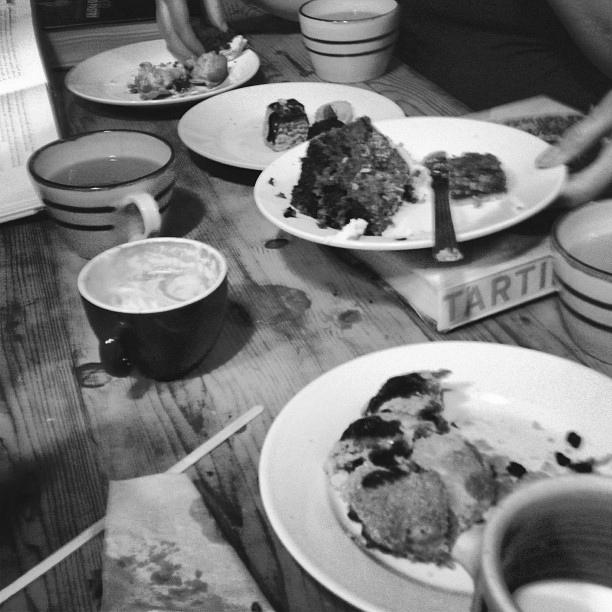cup: (66, 232, 241, 386), (436, 461, 612, 612), (24, 126, 183, 261), (511, 183, 612, 374), (276, 1, 420, 86)
